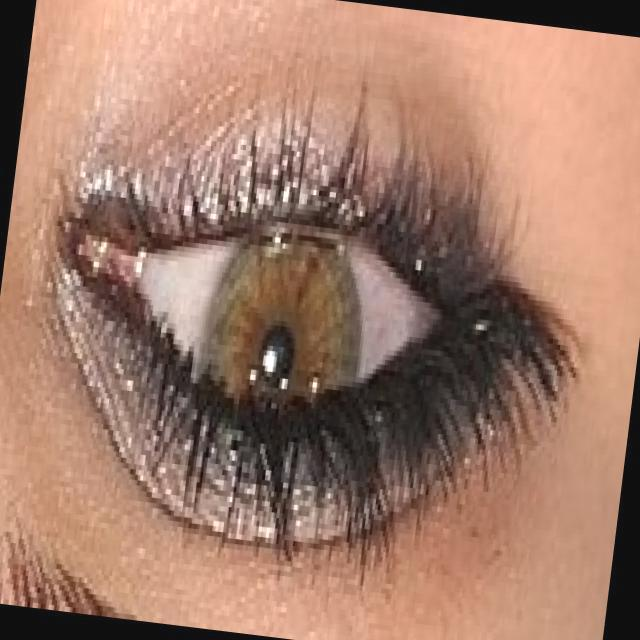Normal: (57, 146, 520, 487)
